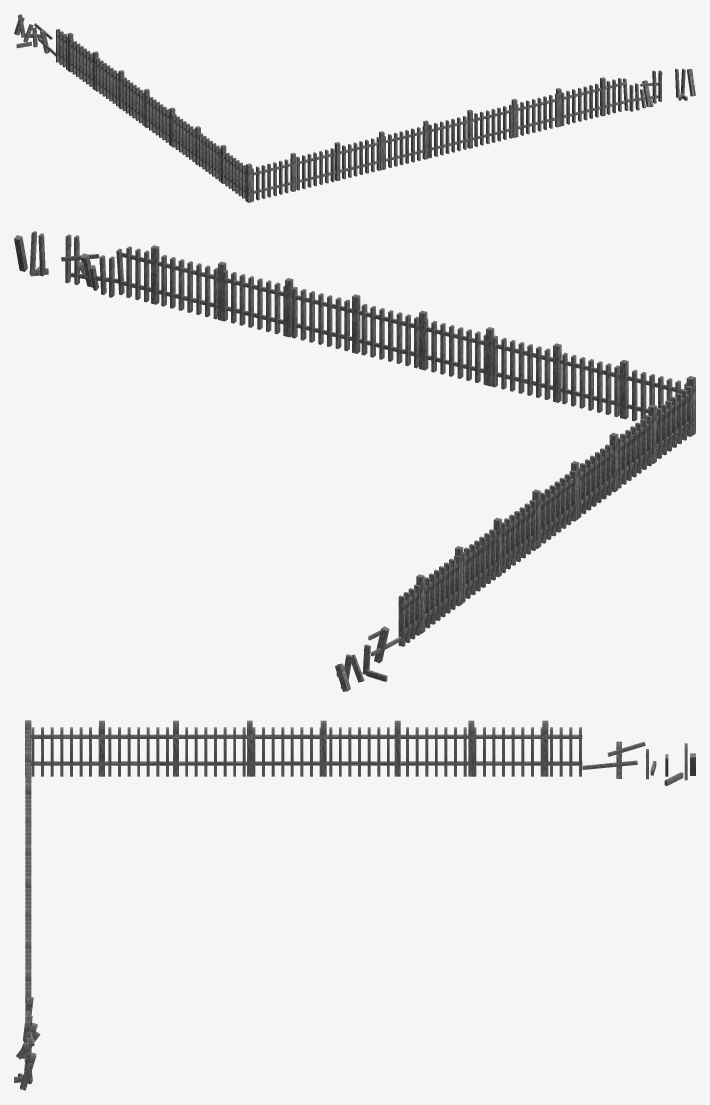
The model's file is fence.glb.
The picture shows the model from 3 angles, top to bottom: view 1: azimuth 30°, elevation 25°; view 2: azimuth 150°, elevation 25°; view 3: azimuth 270°, elevation 25°; orthographic projection. The views are drawn at different scales.
Parts seen in each view (by area): view 1: Fence_Long; view 2: Fence_Long; view 3: Fence_Long.
Boxes of the visible parts, bbox=[...] form: Fence_Long: bbox=[14, 14, 695, 202]; Fence_Long: bbox=[14, 231, 695, 691]; Fence_Long: bbox=[14, 720, 695, 1090].
Size of the model in its own units: 20.78 by 1.71 by 18.46.
1 material, 1 textured.
